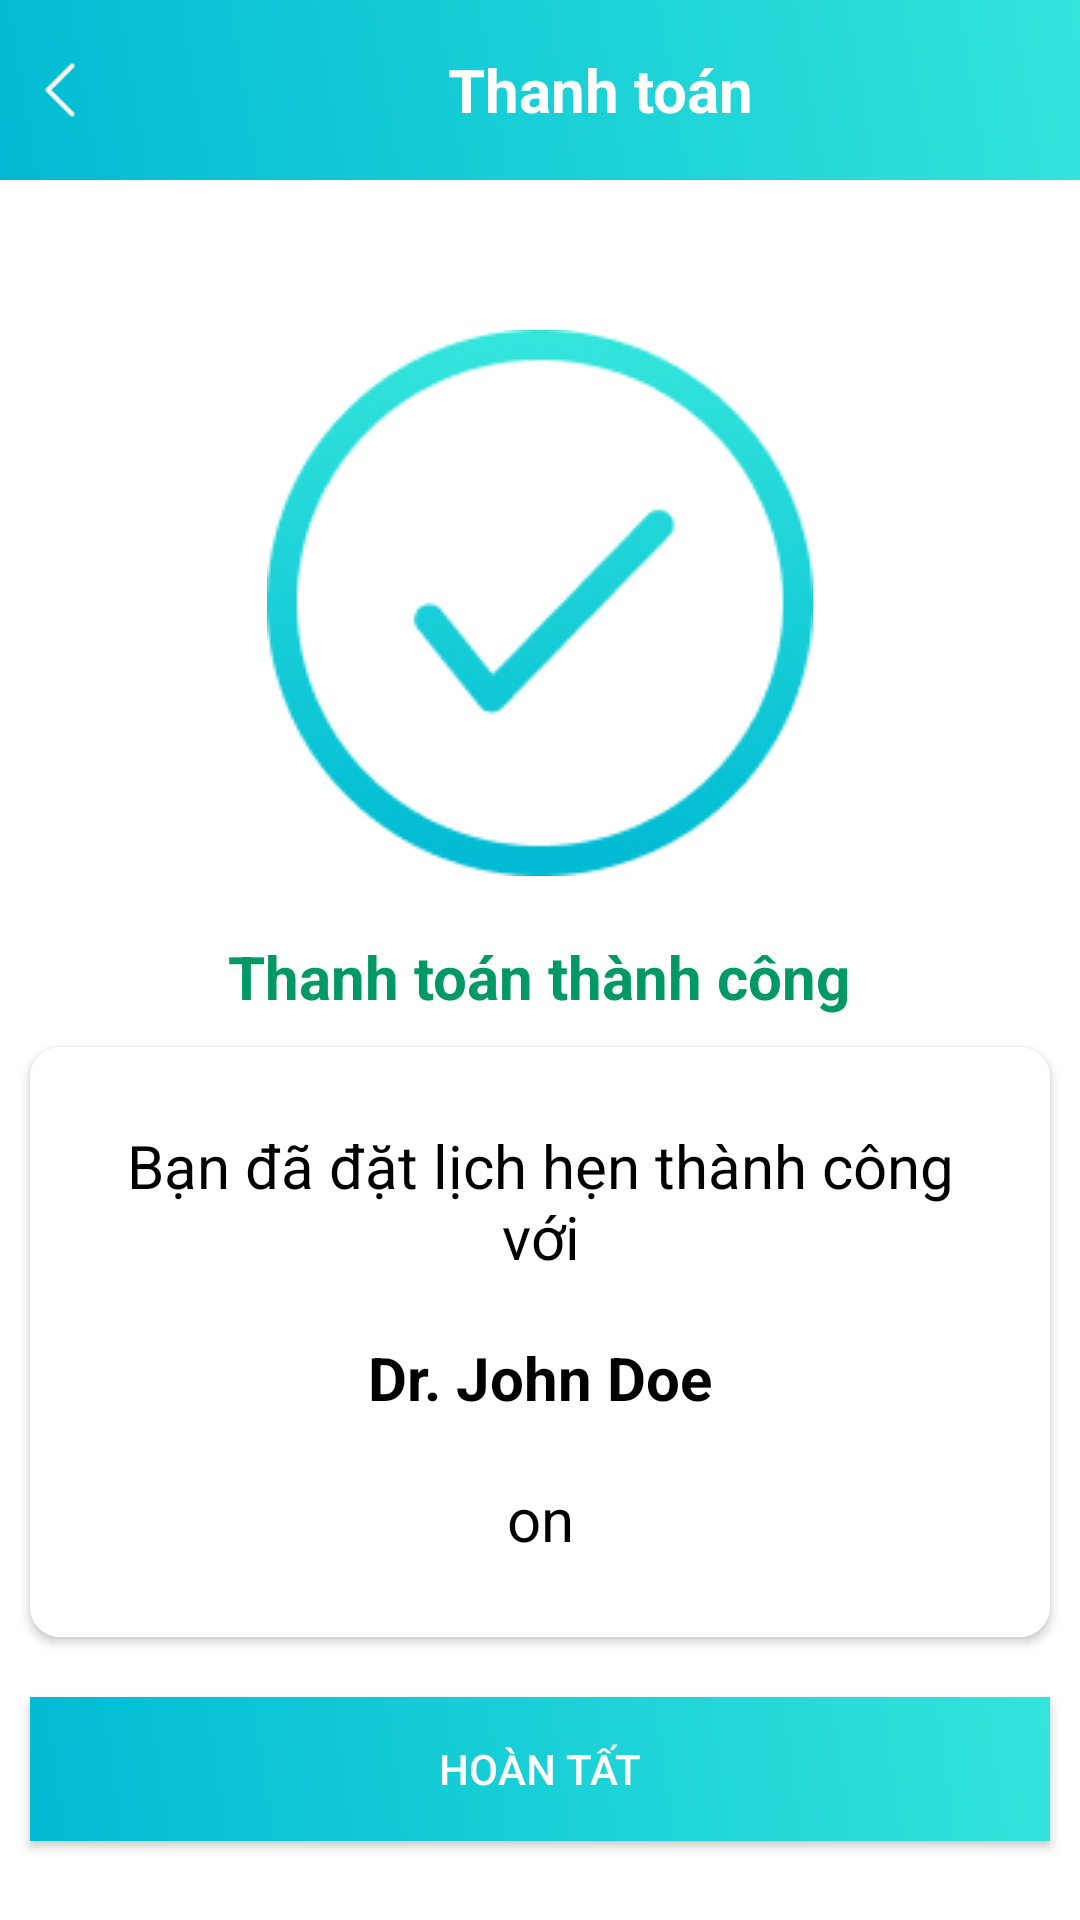

Icon bounding boxes for this 1080w x 1920h phone screenshot, format (x1, y1, x2, y2):
back: (45, 63, 75, 117)
